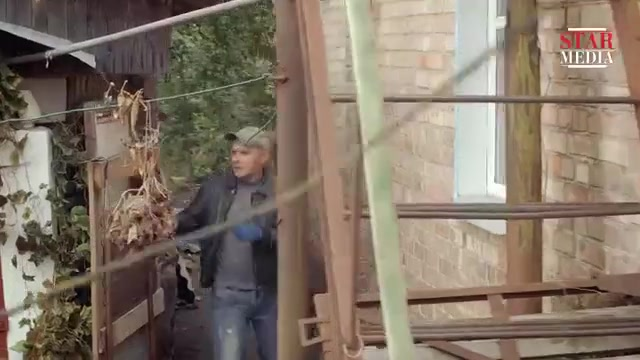Marcher: (169, 124, 279, 359)
